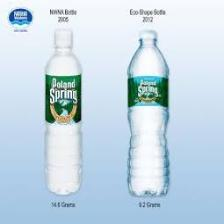plastic: (126, 31, 172, 196), (44, 28, 83, 195)
